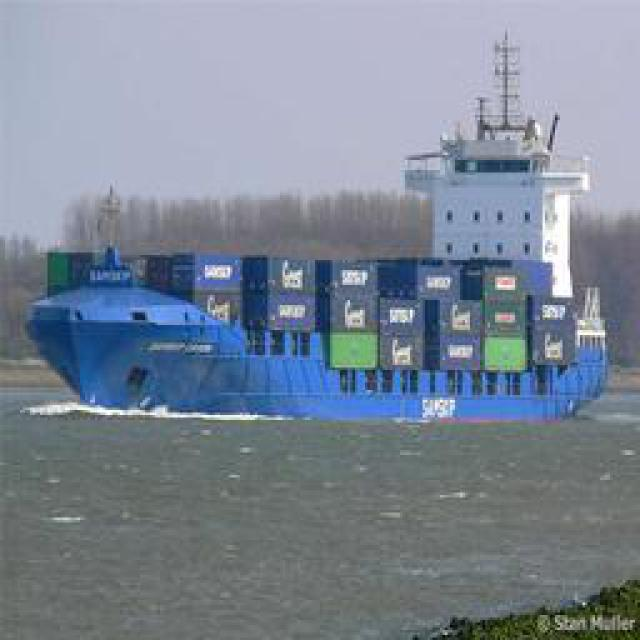Ship: (24, 84, 622, 425)
